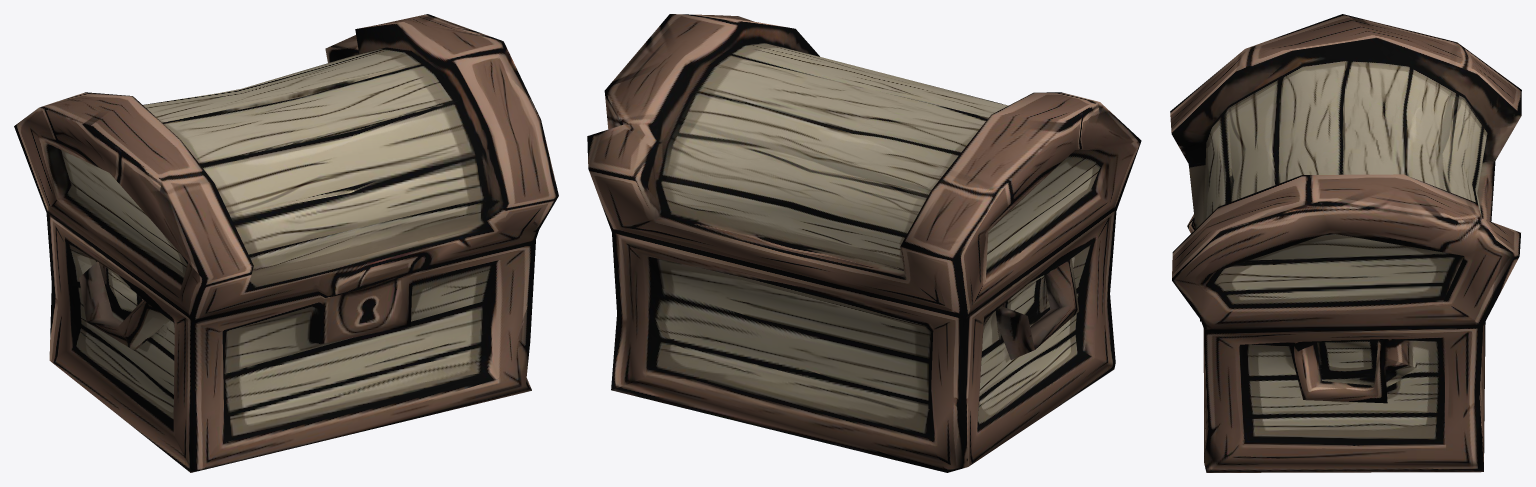
Rendered from chest.glb.
3 views of the same model, side by side, from view 1: azimuth 30°, elevation 25°; view 2: azimuth 150°, elevation 25°; view 3: azimuth 270°, elevation 25° (orthographic). The views are drawn at different scales.
Visible parts, largest first — view 1: tripo_node_1fd6c246-0a5f-4377-ae49-abc6646af6ef; view 2: tripo_node_1fd6c246-0a5f-4377-ae49-abc6646af6ef; view 3: tripo_node_1fd6c246-0a5f-4377-ae49-abc6646af6ef.
Boxes of the visible parts, bbox=[...] form: tripo_node_1fd6c246-0a5f-4377-ae49-abc6646af6ef: bbox=[14, 14, 558, 472]; tripo_node_1fd6c246-0a5f-4377-ae49-abc6646af6ef: bbox=[587, 14, 1141, 472]; tripo_node_1fd6c246-0a5f-4377-ae49-abc6646af6ef: bbox=[1170, 14, 1521, 472].
Bounding box in the file's own units: 0.984 × 0.7141 × 0.7828.
1 material, 1 textured.
